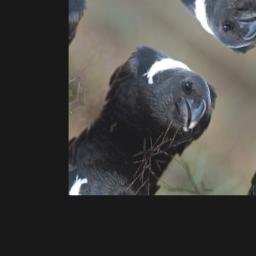Crow: (92, 29, 229, 174)
